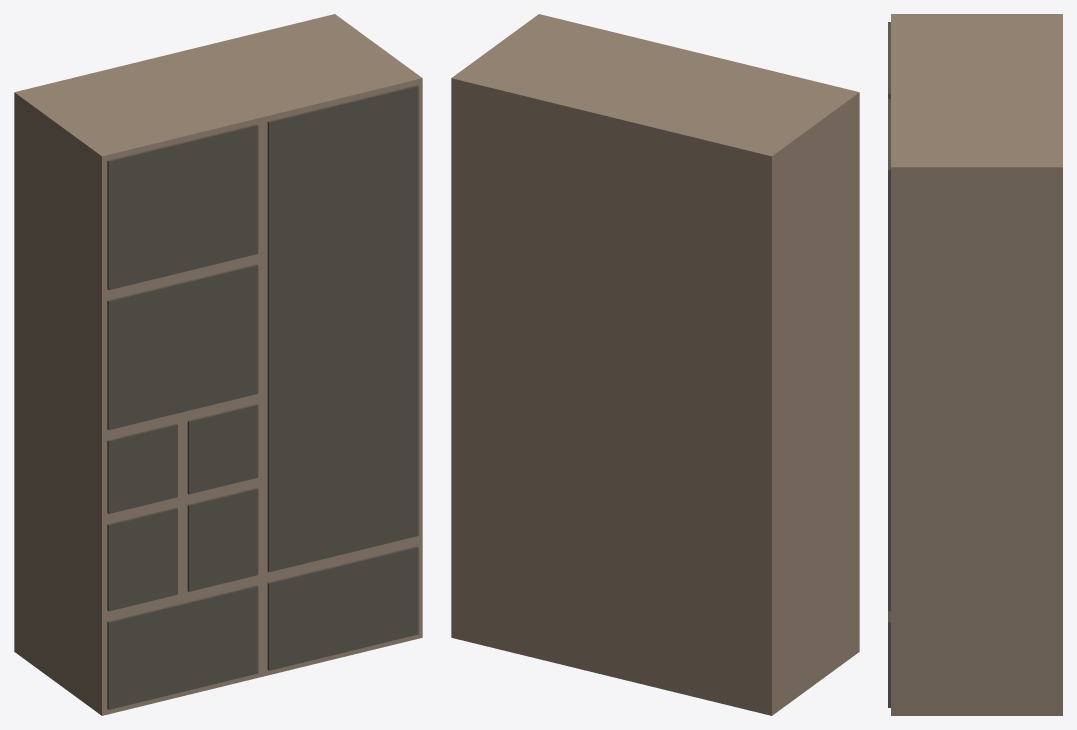
File: Prop_Shelve_04.fbx
The picture shows the model from 3 angles, left to right: view 1: azimuth 30°, elevation 25°; view 2: azimuth 150°, elevation 25°; view 3: azimuth 270°, elevation 25°; orthographic projection.
Visible parts, largest first — view 1: Prop_Shelve_04; view 2: Prop_Shelve_04; view 3: Prop_Shelve_04.
Boxes of the visible parts, left/top/right/bottom form: Prop_Shelve_04: left=14, top=14, right=422, bottom=715; Prop_Shelve_04: left=451, top=14, right=859, bottom=715; Prop_Shelve_04: left=888, top=14, right=1062, bottom=715.
Size of the model in its own units: 119 by 198 by 57.16.
